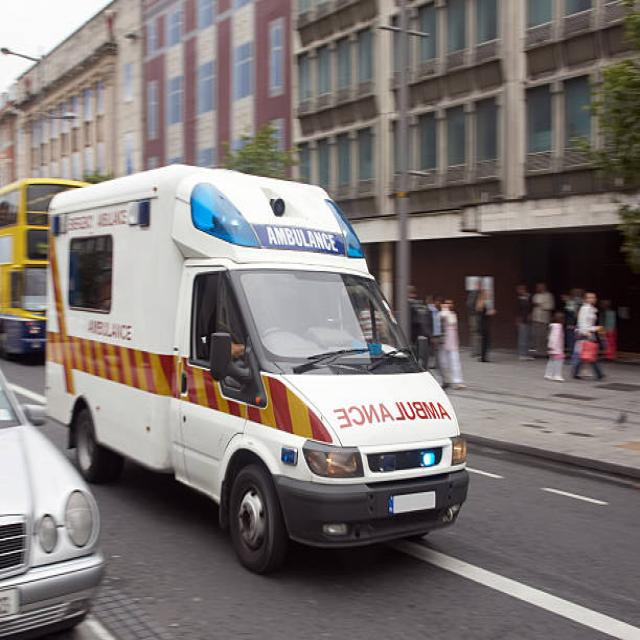emergency: (46, 165, 469, 571)
